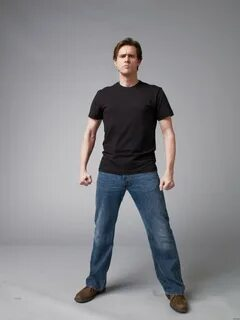awake: (73, 36, 189, 314)
